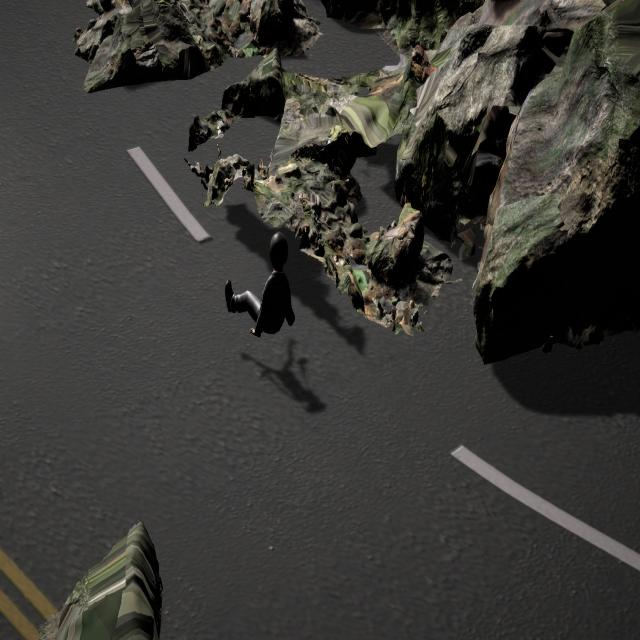Human: (218, 225, 299, 338)
